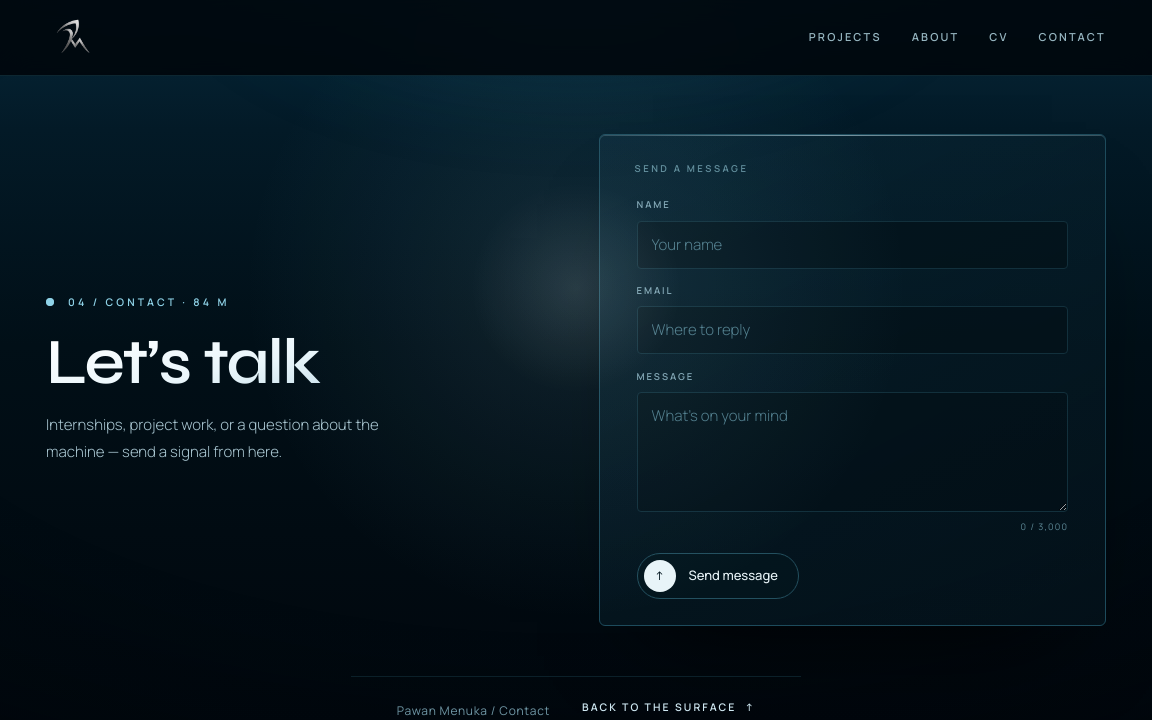
Test: Contact (all submissions mocked; no network writes) › validates fields and focuses the first invalid field without sending
Click the button "↑ Send message": (718, 576) [637,552,799,598]
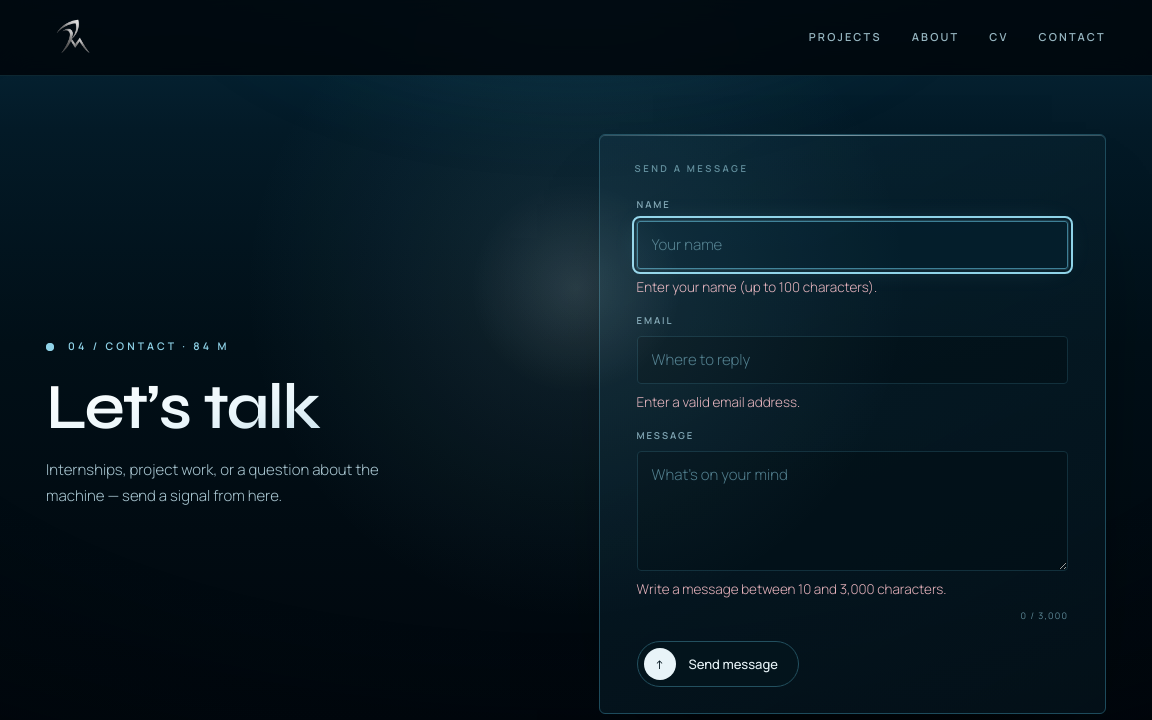
Expected: the text "Write a message between 10 and 3,000 characters." is shown, [637,580,947,598]
